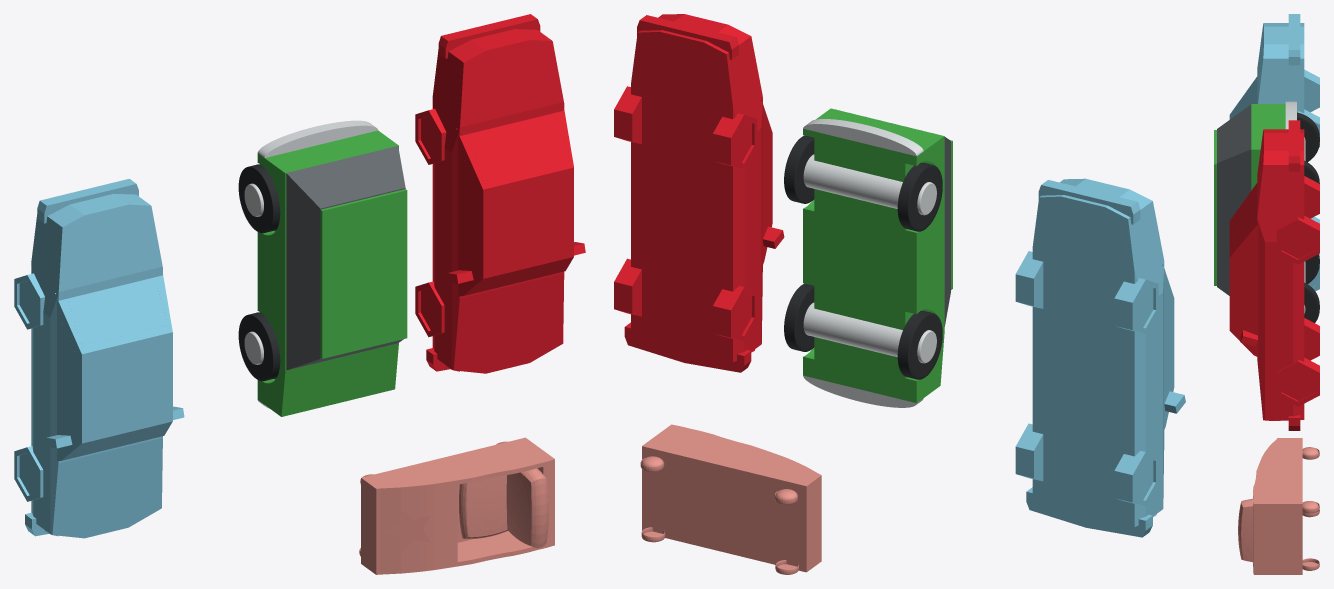
The model's file is tinker.obj.
The picture shows the model from 3 angles, left to right: view 1: azimuth 30°, elevation 25°; view 2: azimuth 150°, elevation 25°; view 3: azimuth 270°, elevation 25°; orthographic projection. The views are drawn at different scales.
Parts seen in each view (by area): view 1: group_0_15277357, group_0_8768998, group_0_4634441, group_0_15308428, group_0_6383466, group_0_2829873, group_0_14541540; view 2: group_0_8768998, group_0_15277357, group_0_4634441, group_0_15308428, group_0_14541540, group_0_2829873, group_0_6383466; view 3: group_0_15277357, group_0_15308428, group_0_8768998, group_0_6383466, group_0_4634441, group_0_2829873, group_0_14541540.
Boxes of the visible parts, x1,y1,x2,y2 form: group_0_15277357: [415, 14, 585, 373]; group_0_8768998: [14, 178, 184, 538]; group_0_4634441: [257, 130, 407, 416]; group_0_15308428: [359, 437, 554, 574]; group_0_6383466: [286, 146, 405, 370]; group_0_2829873: [238, 164, 280, 381]; group_0_14541540: [244, 120, 377, 408]; group_0_8768998: [1015, 178, 1185, 537]; group_0_15277357: [614, 14, 784, 372]; group_0_4634441: [803, 108, 952, 403]; group_0_15308428: [640, 424, 821, 574]; group_0_14541540: [803, 119, 936, 407]; group_0_2829873: [784, 135, 942, 379]; group_0_6383466: [944, 137, 950, 326]; group_0_15277357: [1229, 120, 1319, 430]; group_0_15308428: [1238, 438, 1319, 574]; group_0_8768998: [1229, 14, 1319, 291]; group_0_6383466: [1217, 104, 1251, 295]; group_0_4634441: [1214, 104, 1285, 285]; group_0_2829873: [1297, 112, 1319, 322]; group_0_14541540: [1285, 101, 1305, 313].
Size of the model in its own units: 128 by 119 by 27.
